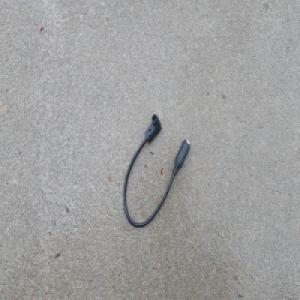Wire: (122, 111, 190, 229)
